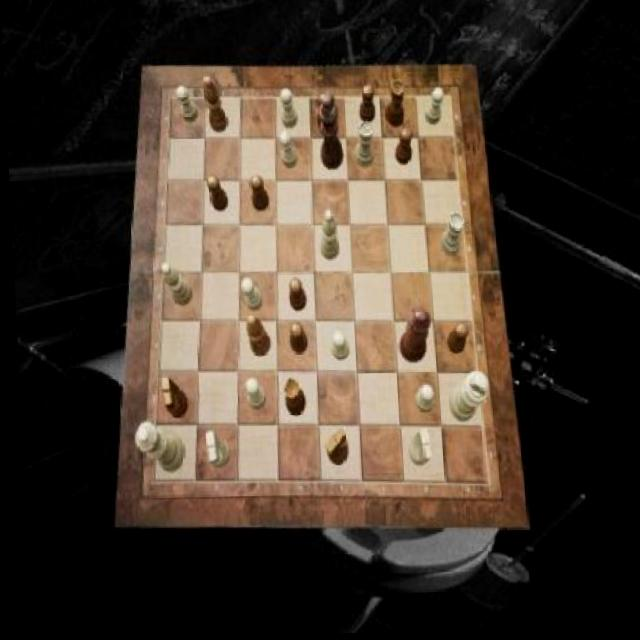bishop: (202, 76, 227, 134), (242, 314, 267, 357)
black-bishop: (317, 93, 343, 171)
black-king: (157, 375, 183, 418), (319, 430, 344, 467)
black-knight: (204, 176, 226, 213), (442, 326, 466, 357), (248, 174, 267, 212), (393, 130, 412, 168), (314, 94, 332, 133), (357, 87, 374, 126), (284, 279, 302, 314), (285, 323, 304, 356)
black-pawn: (394, 308, 429, 365)
black-queen: (382, 82, 404, 130), (279, 378, 300, 417)
black-rook: (158, 263, 190, 307), (316, 211, 337, 263)
white-bishop: (443, 373, 485, 425)
white-king: (403, 430, 429, 468), (202, 432, 227, 470)
white-knight: (175, 86, 198, 123), (421, 90, 442, 127), (237, 279, 259, 313), (278, 90, 296, 131), (278, 132, 297, 170), (240, 378, 261, 411), (409, 387, 430, 414), (327, 334, 346, 362)
white-pawn: (128, 422, 179, 474)
white-queen: (438, 214, 463, 258), (351, 123, 373, 169)
